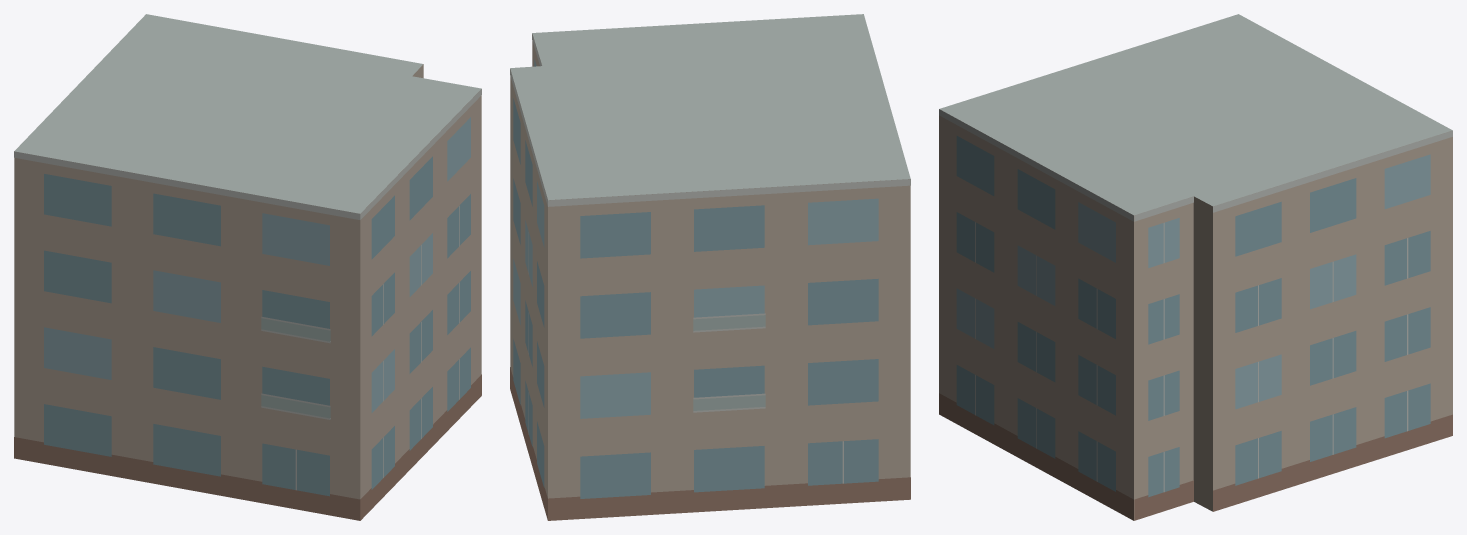
File: survey-upis-32723306.glb
The picture shows the model from 3 angles, left to right: view 1: azimuth 30°, elevation 25°; view 2: azimuth 150°, elevation 25°; view 3: azimuth 270°, elevation 25°; orthographic projection. The views are drawn at different scales.
Visible parts, largest first — view 1: survey-upis-32723306.tmp; view 2: survey-upis-32723306.tmp; view 3: survey-upis-32723306.tmp.
Part boxes in pixels (x1,y1,x2,y2): survey-upis-32723306.tmp: (14, 14, 481, 520); survey-upis-32723306.tmp: (510, 14, 910, 520); survey-upis-32723306.tmp: (939, 14, 1452, 520).
Size of the model in its own units: 16.56 by 11.7 by 17.84.
